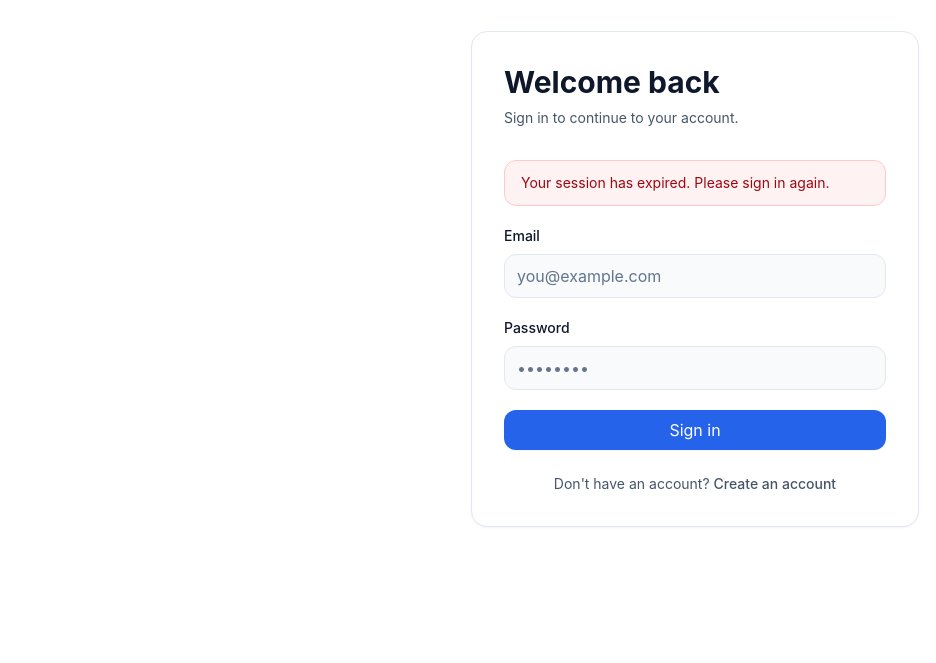
Test: LoginPage › redirects to tenant selection for a workspace destination and preserves it
Type "user@example.com" into the field labelled "Email" at (695, 276), box x1=504 y1=254 x2=886 y2=298
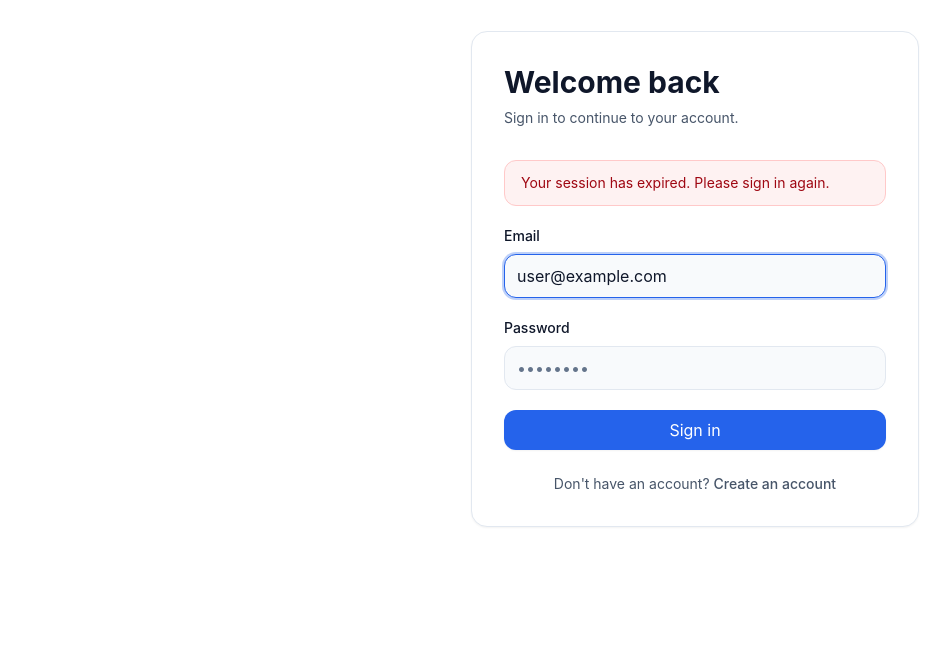
Type "password" into the password field labelled "Password" at (695, 368), box x1=504 y1=346 x2=886 y2=390
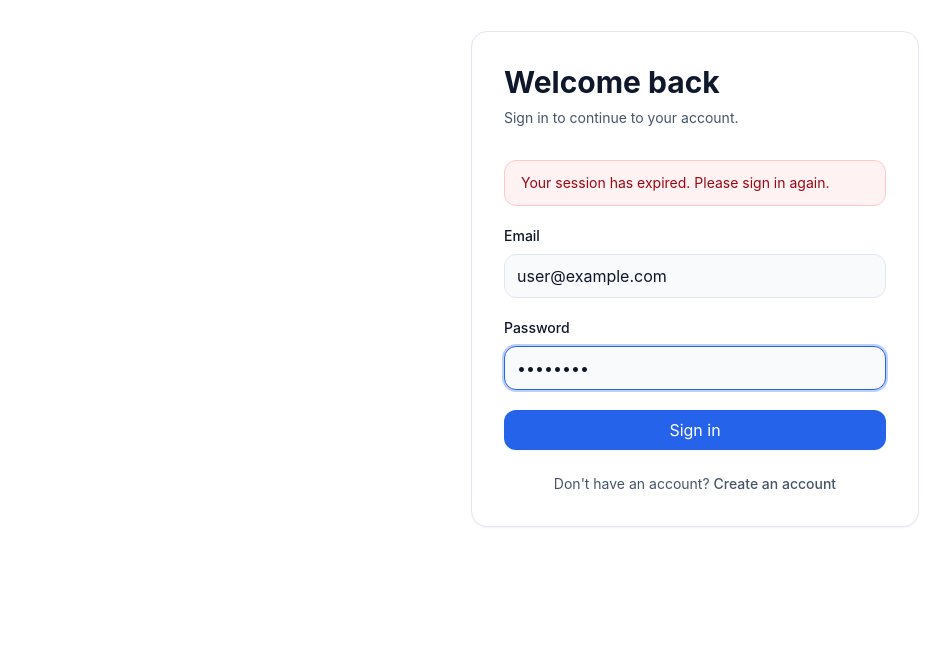
Click the button "Sign in" at (695, 430), box x1=504 y1=410 x2=886 y2=450
(page scrolled)
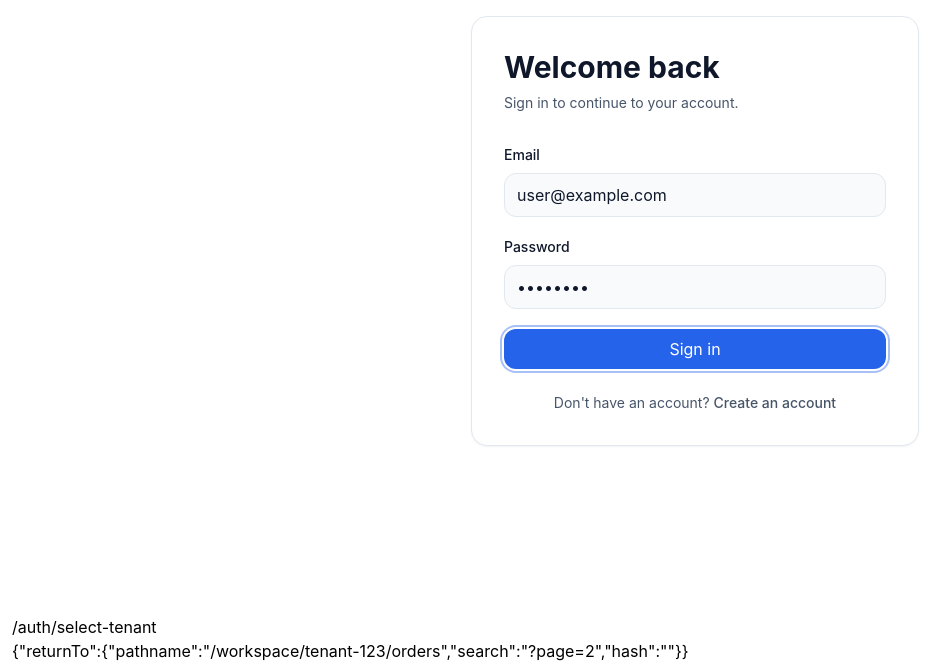
Result: the text with test id "location" reads "/auth/select-tenant" at x1=12 y1=617 x2=157 y2=637
